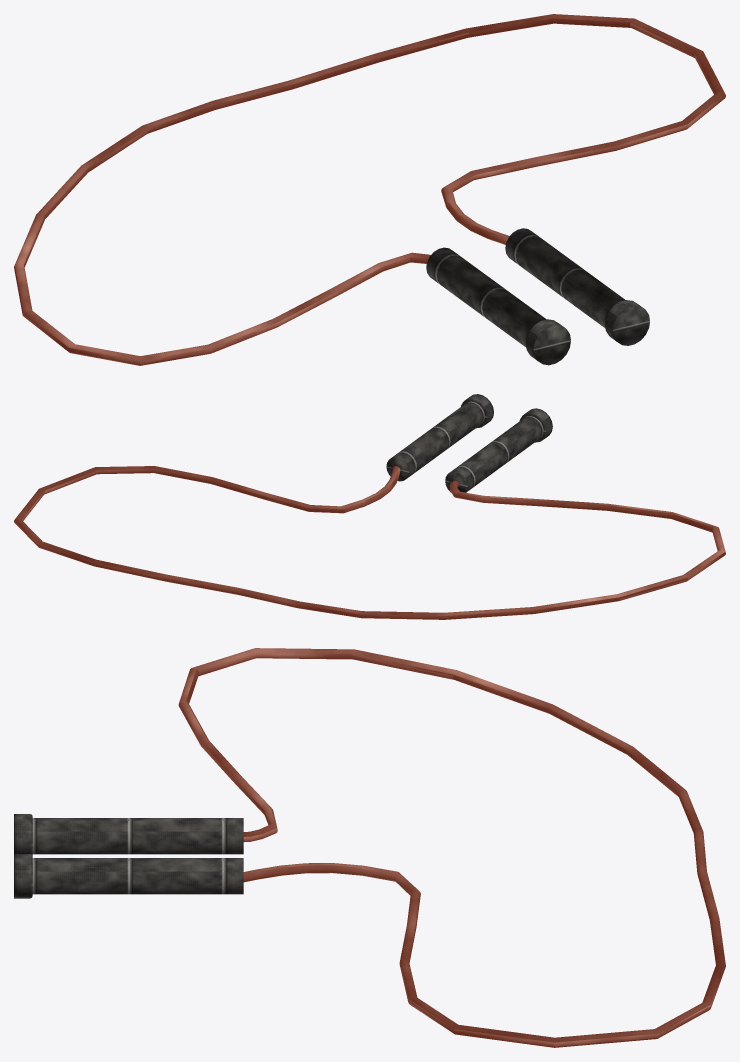
Rendered from skipping_rope.glb.
The picture shows the model from 3 angles, top to bottom: view 1: azimuth 30°, elevation 25°; view 2: azimuth 150°, elevation 25°; view 3: azimuth 270°, elevation 25°; orthographic projection. The views are drawn at different scales.
Parts seen in each view (by area): view 1: Object_3, Object_2; view 2: Object_3, Object_2; view 3: Object_2, Object_3.
Boxes of the visible parts, <box> form: Object_3: <box>14,14,725,365</box>; Object_2: <box>426,228,649,365</box>; Object_3: <box>14,466,725,619</box>; Object_2: <box>386,394,552,492</box>; Object_2: <box>14,814,243,898</box>; Object_3: <box>178,648,725,1047</box>.
Bounding box in the file's own units: 225 × 10.68 × 172.
Materials: 2 (2 with a texture image).
